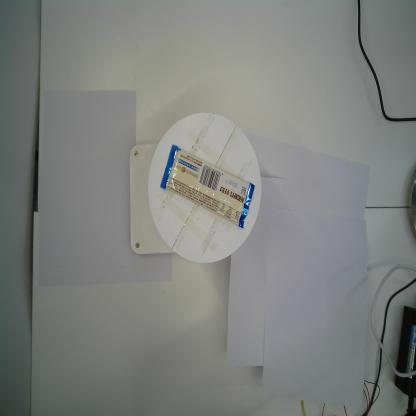Chocolate: (159, 143, 257, 231)
